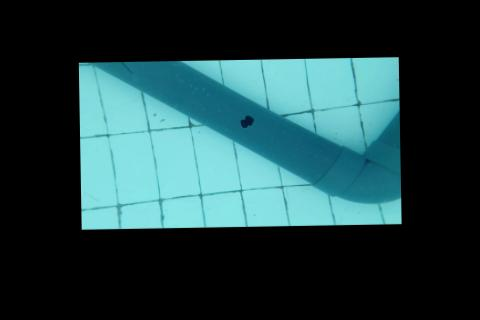kebocoran: (237, 113, 255, 128)
keretakan: (120, 61, 134, 73)
